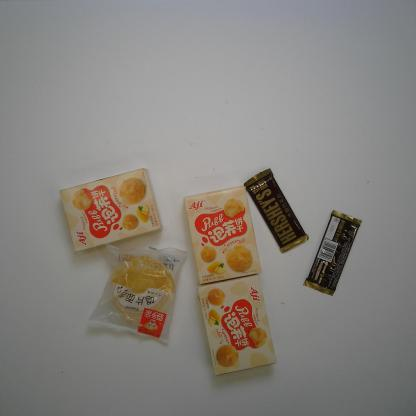Chocolate: (242, 167, 310, 255), (301, 210, 363, 297)
Dessert: (86, 241, 189, 346), (59, 166, 164, 252), (196, 273, 277, 377), (183, 185, 263, 287)
